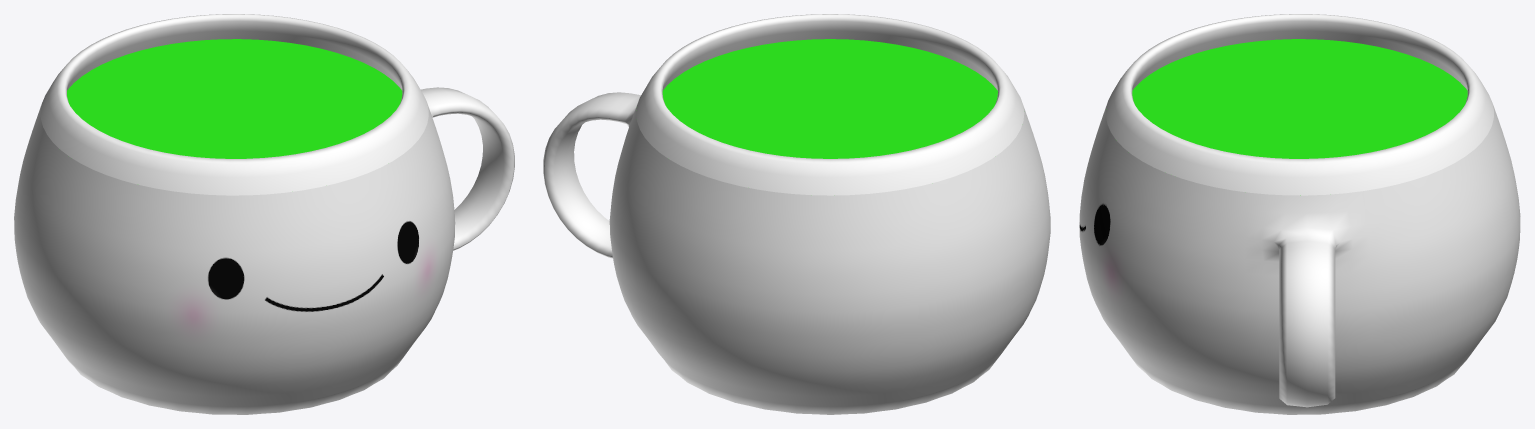
The model's file is matcha.glb.
3 views of the same model, side by side, from view 1: azimuth 30°, elevation 25°; view 2: azimuth 150°, elevation 25°; view 3: azimuth 270°, elevation 25° (orthographic).
Visible parts, largest first — view 1: Cylinder; view 2: Cylinder; view 3: Cylinder.
Boxes of the visible parts, box(x1,y1,x2,y2) form: Cylinder: box(14, 14, 514, 414); Cylinder: box(543, 14, 1050, 414); Cylinder: box(1079, 14, 1520, 414).
Bounding box in the file's own units: 0.8409 × 0.4605 × 0.6882.
2 materials, 1 textured.
